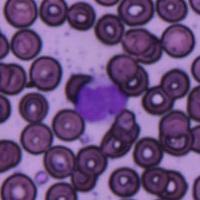M: (73, 74, 128, 123)
